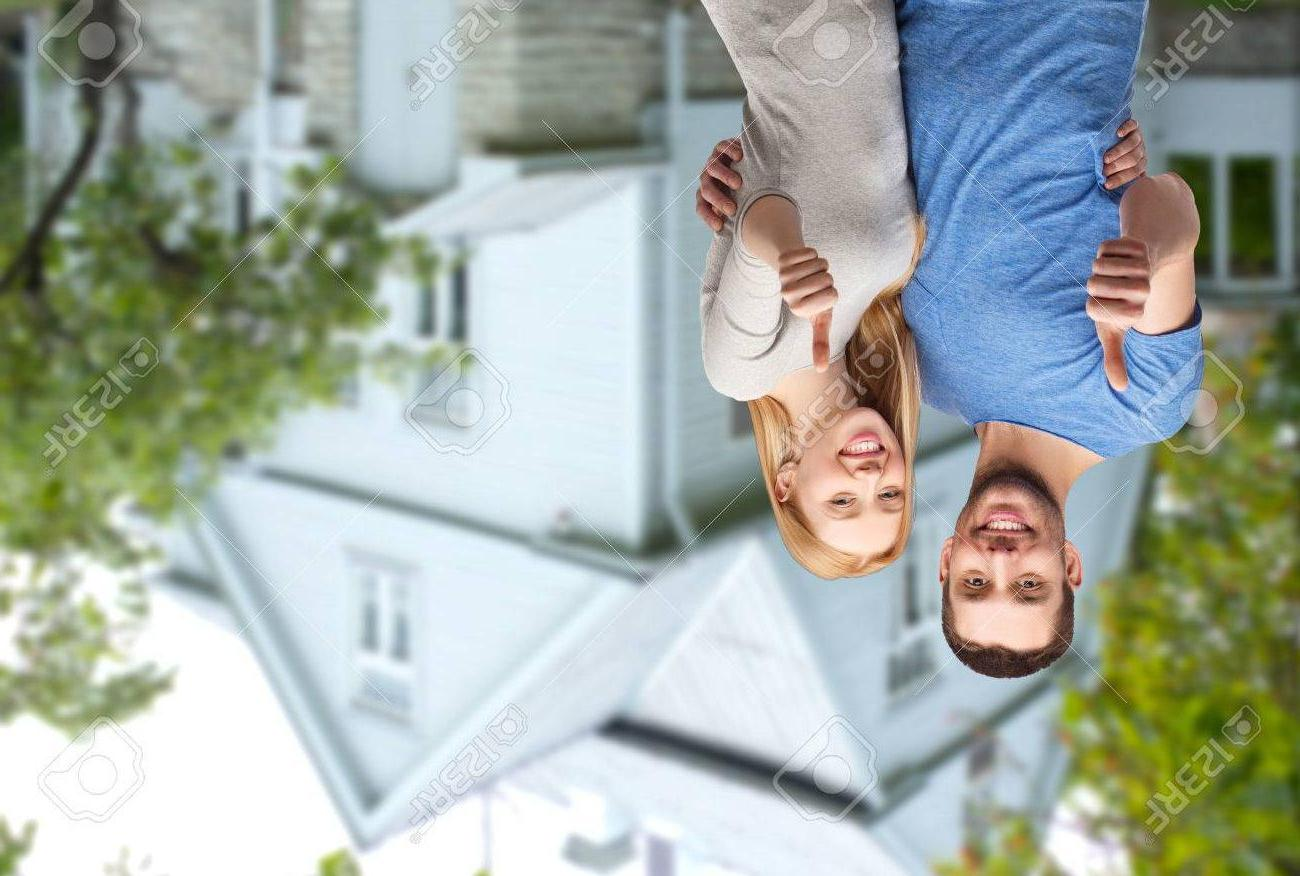thumbsdown: (1085, 238, 1150, 392), (777, 247, 838, 372)
